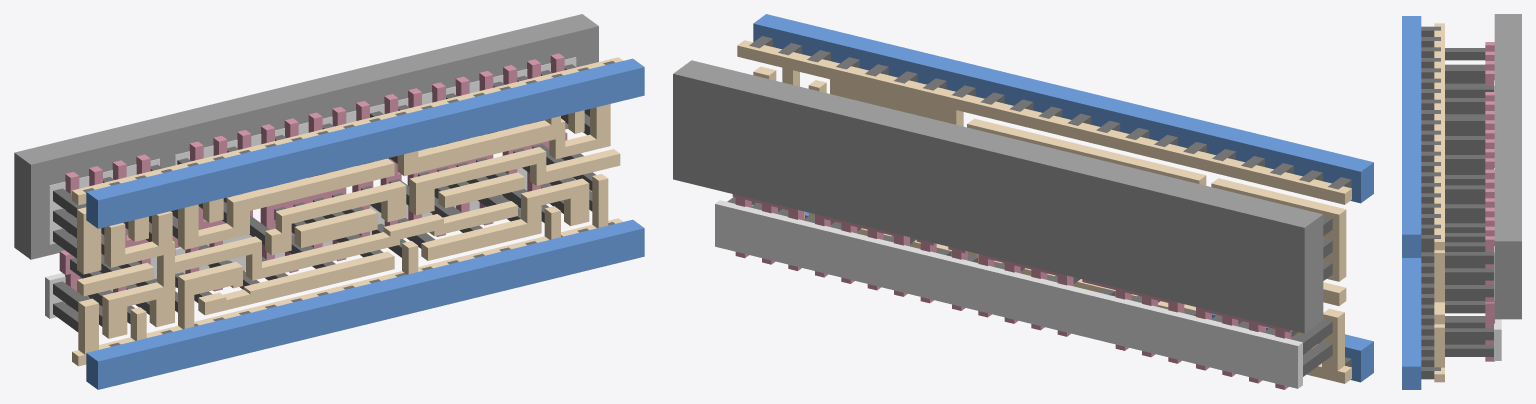
Rendered from sky130_fd_sc_hd__a221oi_4.gds.gltf.
The picture shows the model from 3 angles, left to right: view 1: azimuth 30°, elevation 25°; view 2: azimuth 150°, elevation 25°; view 3: azimuth 270°, elevation 25°; orthographic projection. The views are drawn at different scales.
Parts seen in each view (by area): view 1: sky130_fd_sc_hd__a221oi_4_li1, sky130_fd_sc_hd__a221oi_4_met1, sky130_fd_sc_hd__a221oi_4_nwell, sky130_fd_sc_hd__a221oi_4_licon, sky130_fd_sc_hd__a221oi_4_poly, sky130_fd_sc_hd__a221oi_4_diff, sky130_fd_sc_hd__a221oi_4_mcon; view 2: sky130_fd_sc_hd__a221oi_4_nwell, sky130_fd_sc_hd__a221oi_4_diff, sky130_fd_sc_hd__a221oi_4_li1, sky130_fd_sc_hd__a221oi_4_met1, sky130_fd_sc_hd__a221oi_4_poly, sky130_fd_sc_hd__a221oi_4_mcon, sky130_fd_sc_hd__a221oi_4_licon; view 3: sky130_fd_sc_hd__a221oi_4_licon, sky130_fd_sc_hd__a221oi_4_nwell, sky130_fd_sc_hd__a221oi_4_met1, sky130_fd_sc_hd__a221oi_4_mcon, sky130_fd_sc_hd__a221oi_4_li1, sky130_fd_sc_hd__a221oi_4_poly, sky130_fd_sc_hd__a221oi_4_diff.
Boxes of the visible parts, x1=… form: sky130_fd_sc_hd__a221oi_4_li1: x1=72, y1=57, x2=622, y2=366; sky130_fd_sc_hd__a221oi_4_met1: x1=86, y1=58, x2=644, y2=389; sky130_fd_sc_hd__a221oi_4_nwell: x1=14, y1=14, x2=598, y2=259; sky130_fd_sc_hd__a221oi_4_licon: x1=53, y1=64, x2=595, y2=331; sky130_fd_sc_hd__a221oi_4_poly: x1=59, y1=53, x2=567, y2=312; sky130_fd_sc_hd__a221oi_4_diff: x1=45, y1=57, x2=576, y2=318; sky130_fd_sc_hd__a221oi_4_mcon: x1=83, y1=61, x2=614, y2=346; sky130_fd_sc_hd__a221oi_4_nwell: x1=673, y1=60, x2=1323, y2=333; sky130_fd_sc_hd__a221oi_4_diff: x1=715, y1=200, x2=1302, y2=388; sky130_fd_sc_hd__a221oi_4_li1: x1=737, y1=40, x2=1351, y2=383; sky130_fd_sc_hd__a221oi_4_met1: x1=753, y1=14, x2=1373, y2=382; sky130_fd_sc_hd__a221oi_4_poly: x1=732, y1=194, x2=1292, y2=389; sky130_fd_sc_hd__a221oi_4_mcon: x1=749, y1=36, x2=1351, y2=367; sky130_fd_sc_hd__a221oi_4_licon: x1=727, y1=197, x2=1332, y2=376; sky130_fd_sc_hd__a221oi_4_licon: x1=1445, y1=48, x2=1493, y2=356; sky130_fd_sc_hd__a221oi_4_nwell: x1=1494, y1=14, x2=1521, y2=319; sky130_fd_sc_hd__a221oi_4_met1: x1=1402, y1=16, x2=1421, y2=389; sky130_fd_sc_hd__a221oi_4_mcon: x1=1421, y1=26, x2=1440, y2=379; sky130_fd_sc_hd__a221oi_4_li1: x1=1434, y1=23, x2=1444, y2=382; sky130_fd_sc_hd__a221oi_4_poly: x1=1485, y1=42, x2=1494, y2=361; sky130_fd_sc_hd__a221oi_4_diff: x1=1494, y1=80, x2=1501, y2=360.
Bounding box in the file's own units: 10.04 × 3.2 × 2.24.
